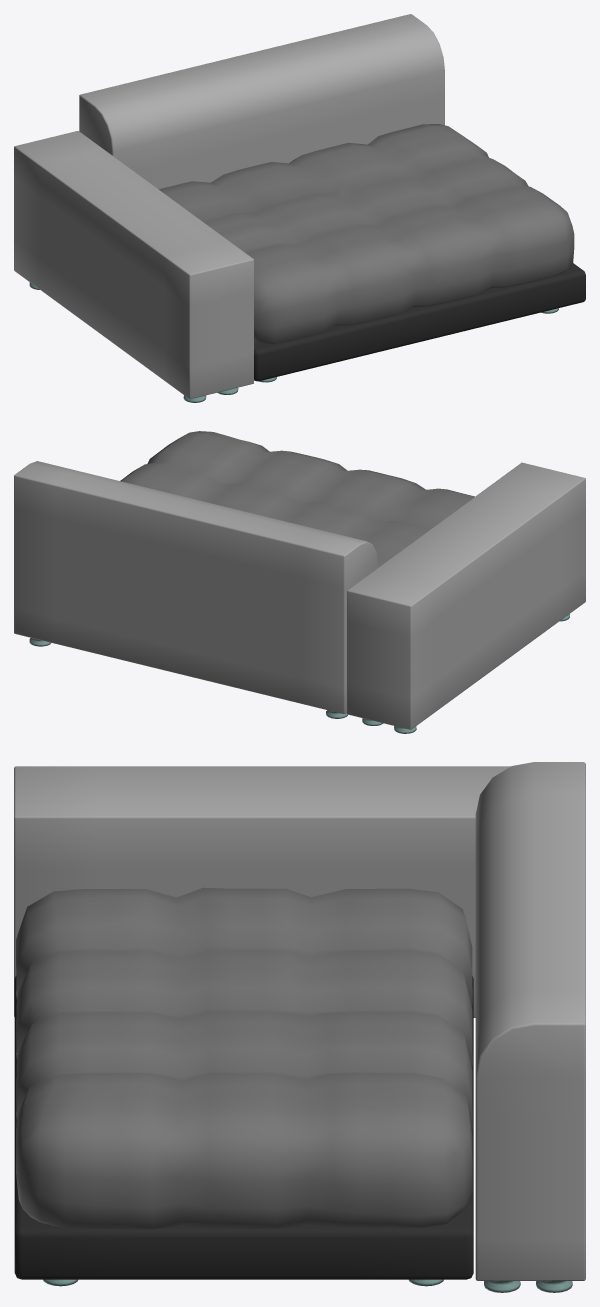
File: leather_sofa.glb
3 views of the same model, one above another, from view 1: azimuth 30°, elevation 25°; view 2: azimuth 150°, elevation 25°; view 3: azimuth 270°, elevation 25° (orthographic). The views are drawn at different scales.
Parts seen in each view (by area): view 1: Circle.010, Circle.008, Circle.009, Circle.007; view 2: Circle.009, Circle.008, Circle.010; view 3: Circle.010, Circle.008, Circle.009, Circle.007.
Boxes of the visible parts, x1,y1,x2,y2 form: Circle.010: [159, 124, 574, 344]; Circle.008: [14, 131, 253, 402]; Circle.009: [79, 14, 444, 189]; Circle.007: [254, 263, 585, 382]; Circle.009: [14, 461, 377, 718]; Circle.008: [347, 462, 585, 733]; Circle.010: [120, 431, 474, 567]; Circle.010: [16, 887, 472, 1229]; Circle.008: [14, 766, 510, 1017]; Circle.009: [475, 762, 585, 1292]; Circle.007: [14, 976, 473, 1286].
Bounding box in the file's own units: 375 × 153 × 288.
1 material, 1 textured.
